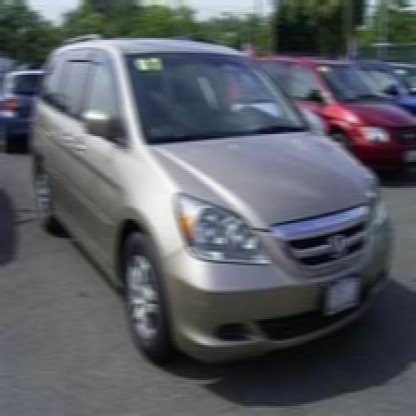Vehicle: (25, 30, 399, 372)
